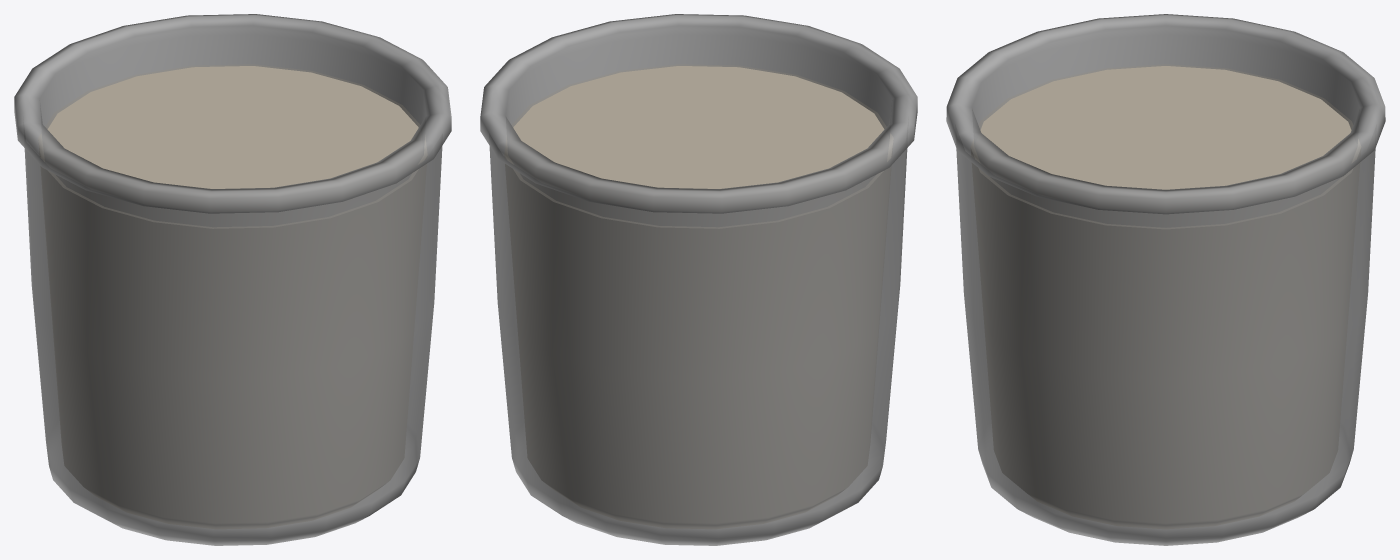
Rendered from MeasuringCup.fbx.
3 renders of one model, left to right at view 1: azimuth 30°, elevation 25°; view 2: azimuth 150°, elevation 25°; view 3: azimuth 270°, elevation 25°, orthographic.
Visible parts, largest first — view 1: MeasuringCup, Rice; view 2: MeasuringCup, Rice; view 3: MeasuringCup, Rice.
Boxes of the visible parts, box(x1,y1,x2,y2) form: MeasuringCup: box(14, 14, 451, 545); Rice: box(38, 64, 427, 528); MeasuringCup: box(480, 14, 917, 545); Rice: box(504, 64, 893, 528); MeasuringCup: box(946, 14, 1385, 545); Rice: box(971, 64, 1360, 528).
Bounding box in the file's own units: 1.67 × 1.57 × 1.67.
